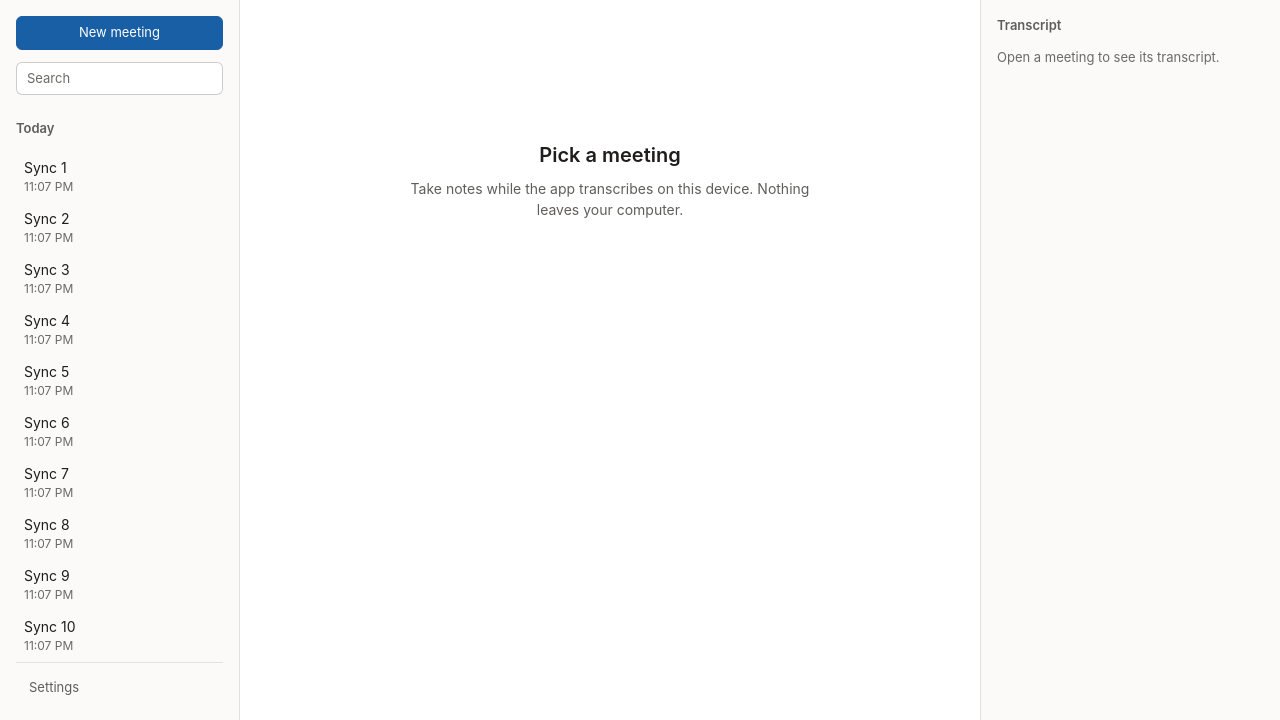
Test: App › search › pages through search results
expect the button with aria-label "Sync 1," is shown: met, box top-left (16, 150), bottom-right (223, 202)
Type "sync" into the search field named "Search meetings" at (120, 78), box top-left (16, 62), bottom-right (223, 95)
(page scrolled)
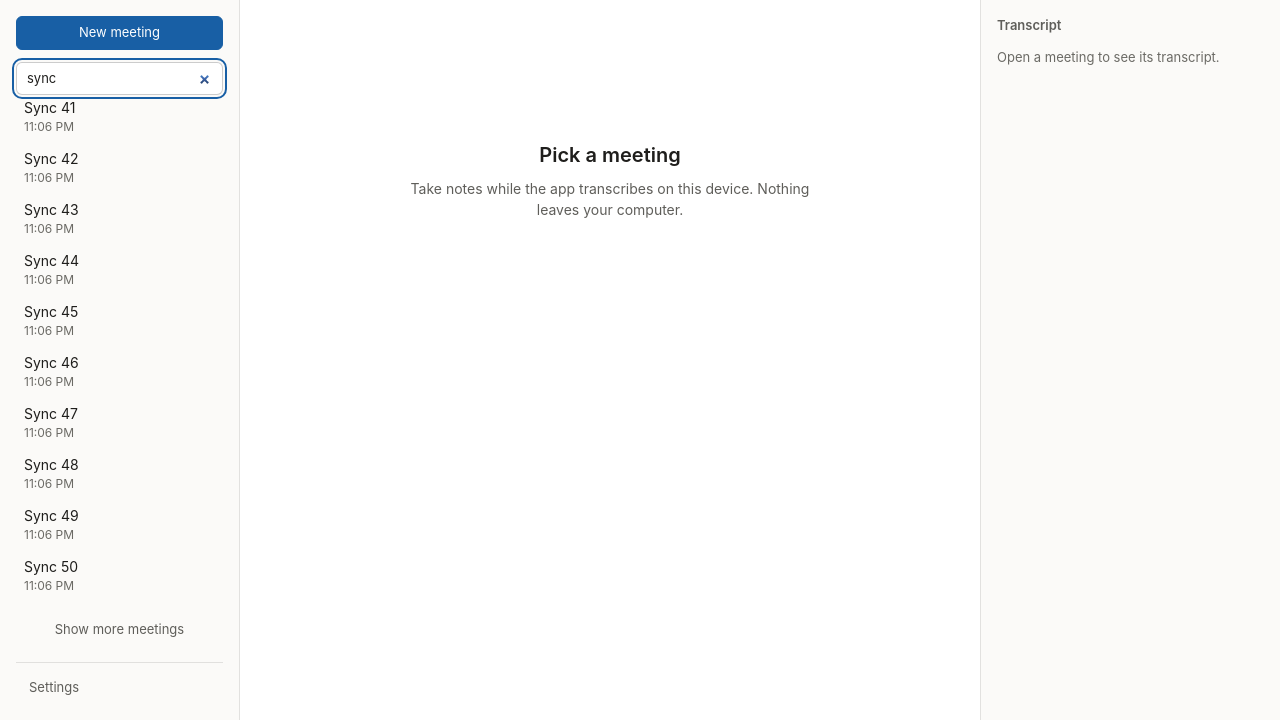
Click the button "Show more meetings" at (120, 629), box top-left (16, 612), bottom-right (223, 646)
(page scrolled)
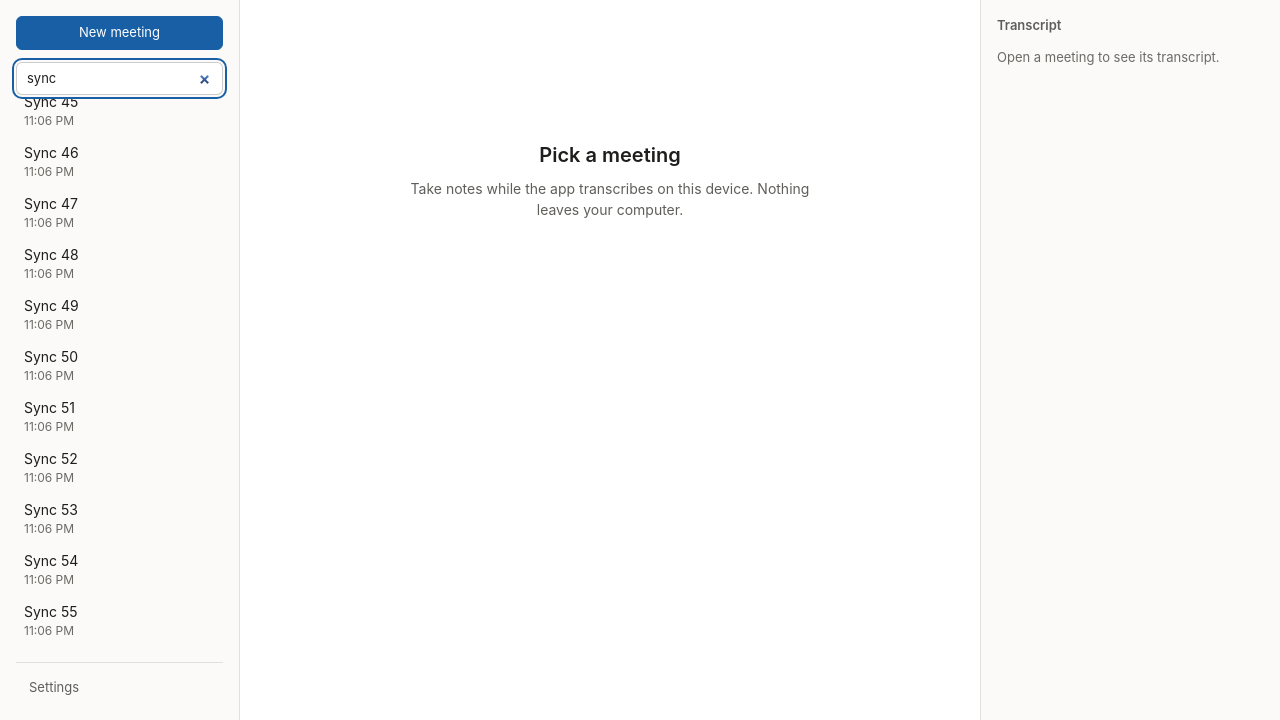
expect the button with aria-label "Sync 55," is shown: met, box top-left (16, 594), bottom-right (223, 646)
